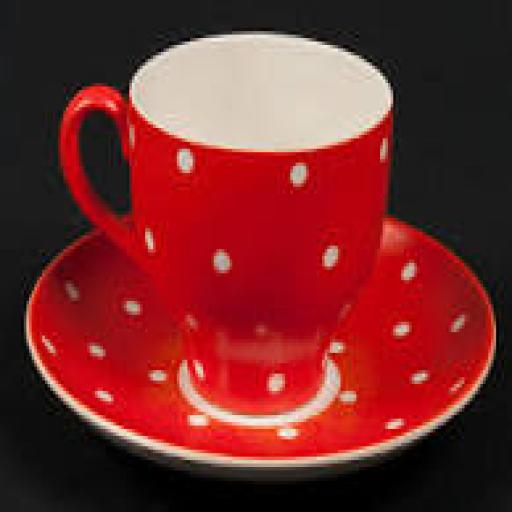red mug: (63, 35, 391, 415)
